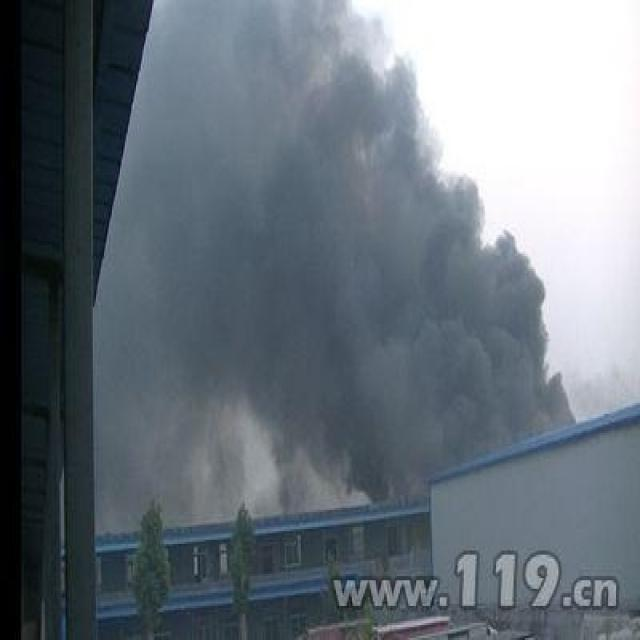Smoke: (92, 2, 574, 533)
